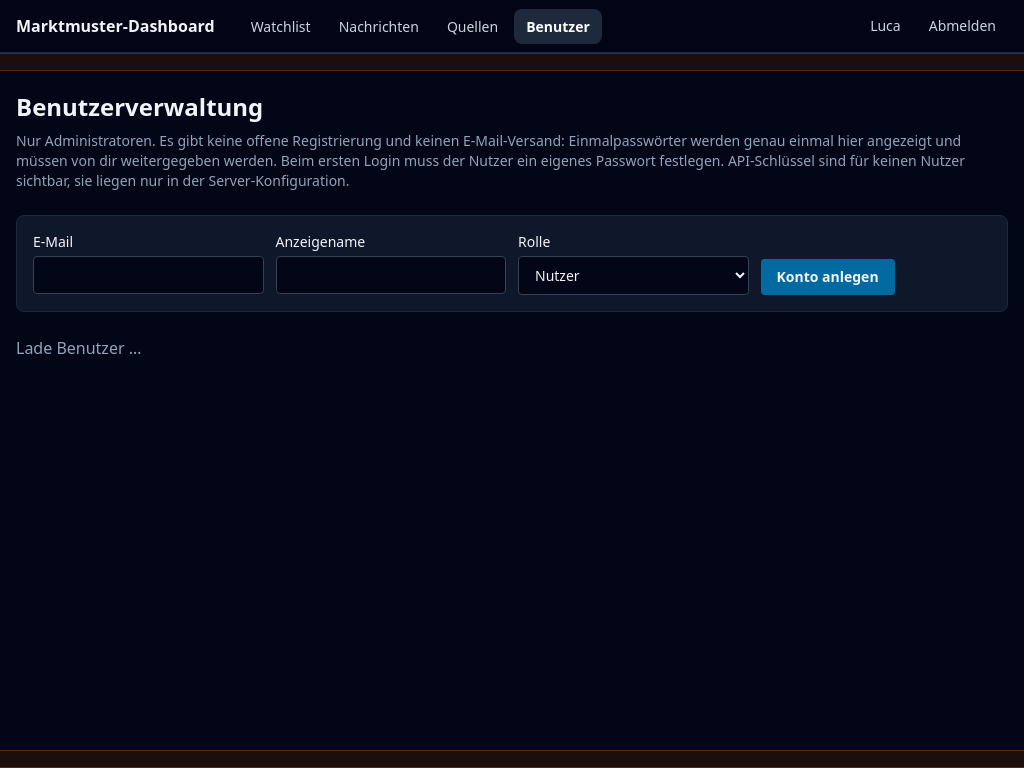
it: Benutzerverwaltung › zeigt das Einmalpasswort nach dem Anlegen
Step 1. Type "n@b.de" into the field labelled "E-Mail" → (148,275), box [33,256,264,294]
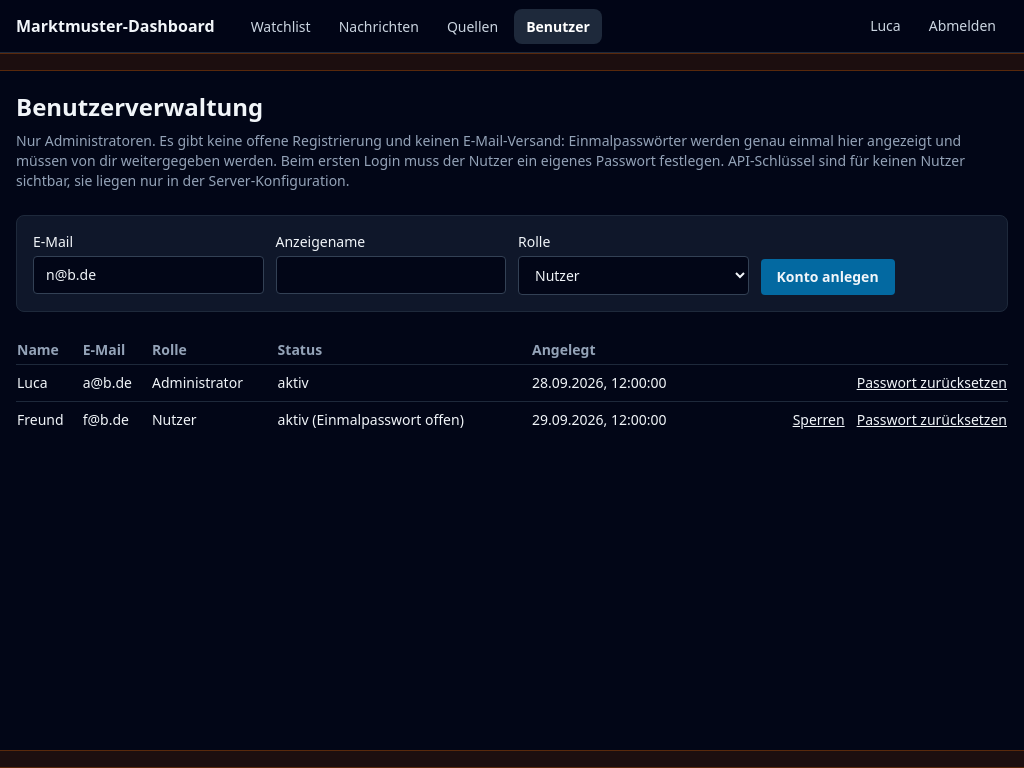
Step 2. Type "Neu" into the field labelled "Anzeigename" → (391,275), box [276,256,506,294]
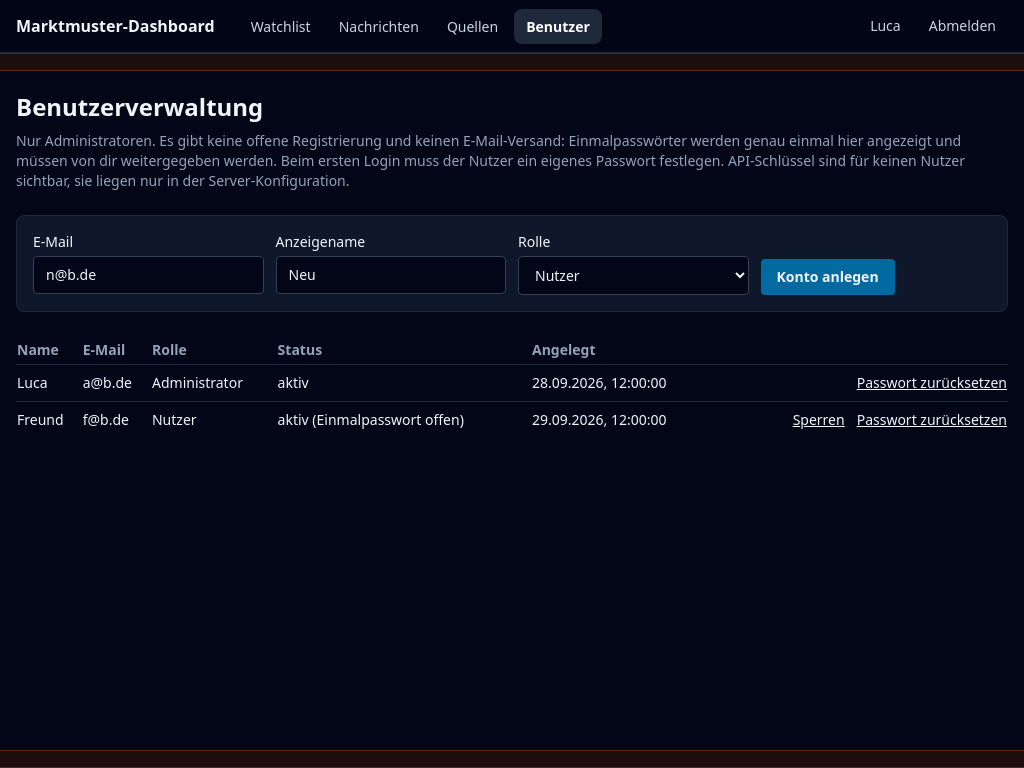
Step 3. Click the button "Konto anlegen" → (828,277), box [760,259,895,295]
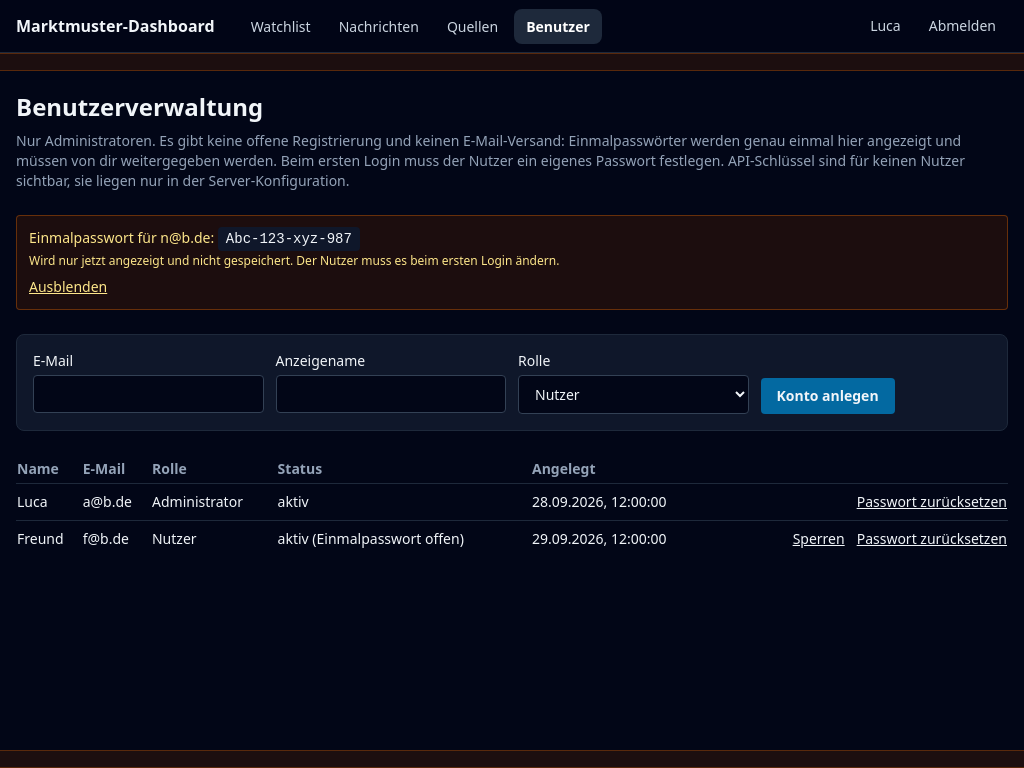
Expected: the message with test id "temp-password" shows "Abc-123-xyz-987", [226,231,352,247]
